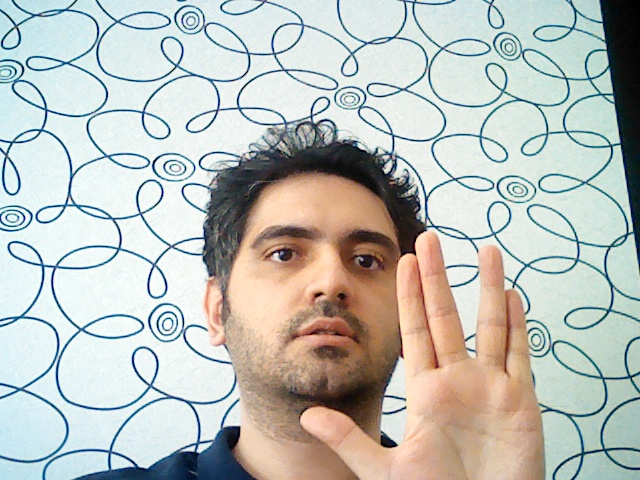LiveLong: (300, 231, 551, 480)
